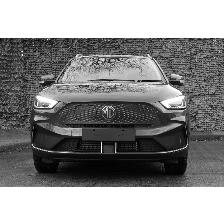EV: (31, 53, 191, 175)
